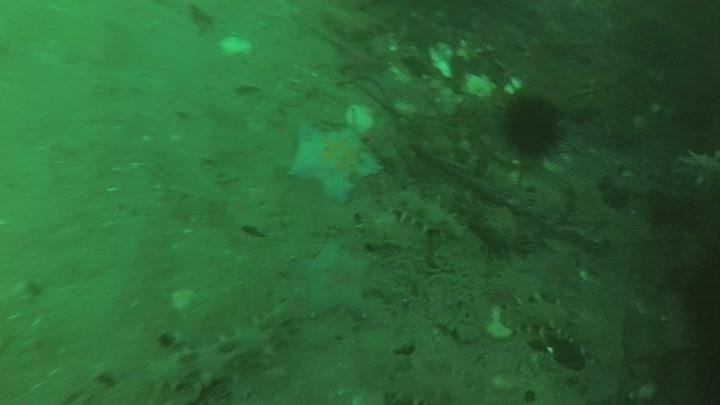echinus: (497, 91, 567, 162)
holothurian: (144, 298, 301, 398), (490, 294, 597, 348), (375, 185, 467, 240), (381, 362, 484, 405), (671, 144, 720, 194)
starfish: (285, 121, 384, 204), (291, 235, 376, 321), (516, 240, 584, 300)
